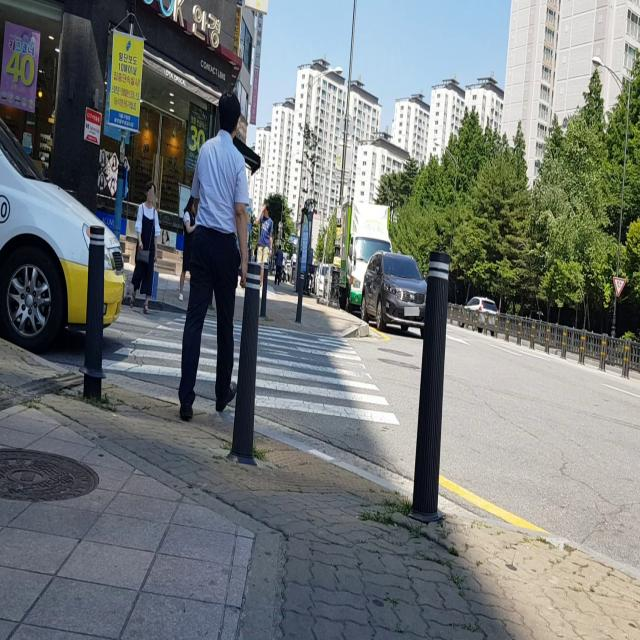횡단보도: (100, 308, 403, 429)
